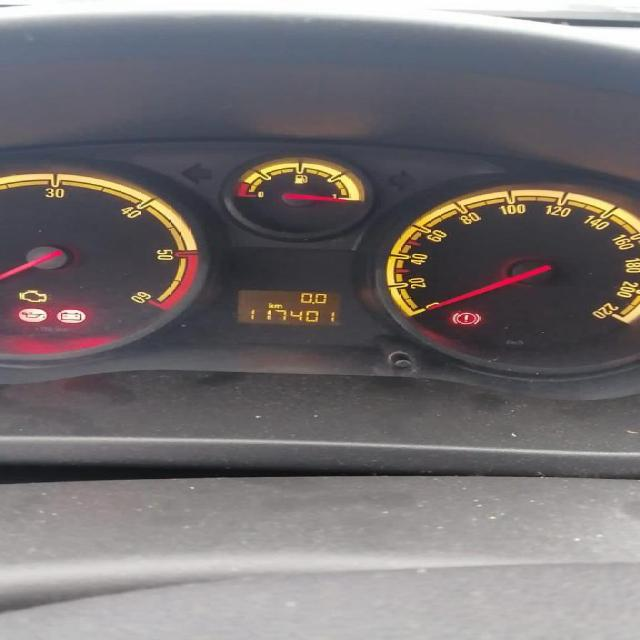odometer: (234, 289, 340, 326)
